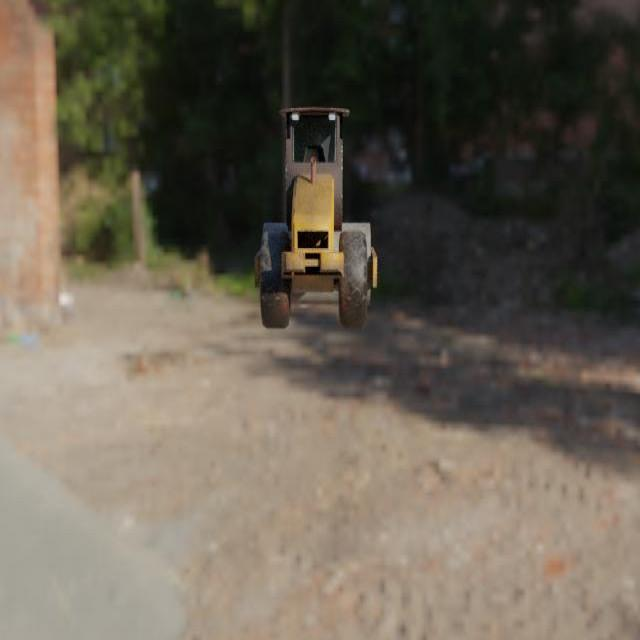Roller: (254, 107, 377, 329)
